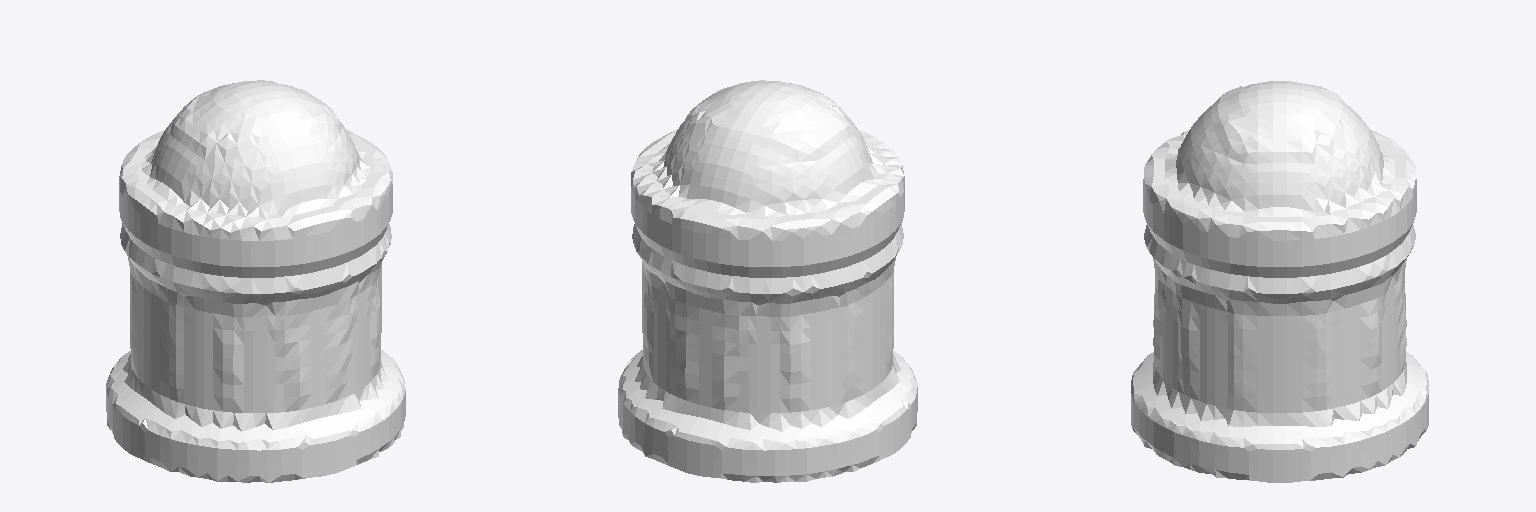
Rendered from pedestal.obj.
3 renders of one model, left to right at view 1: azimuth 30°, elevation 25°; view 2: azimuth 150°, elevation 25°; view 3: azimuth 270°, elevation 25°, orthographic.
Visible parts, largest first — view 1: Cylinder; view 2: Cylinder; view 3: Cylinder.
Boxes of the visible parts, <box> form: Cylinder: <box>106,80,405,482</box>; Cylinder: <box>618,80,917,482</box>; Cylinder: <box>1131,81,1428,482</box>.
Bounding box in the file's own units: 1.13 × 1.37 × 1.13.